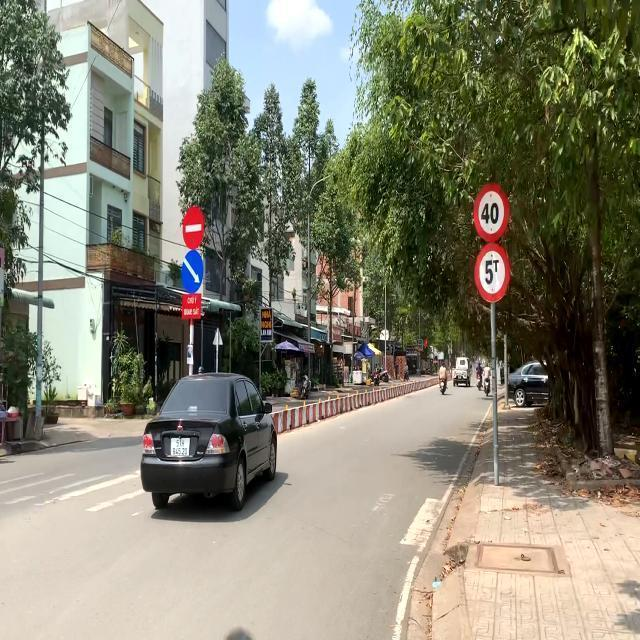102-cam-di-nguoc-chieu: (182, 204, 206, 248)
127-toc-do-toi-da-40: (474, 183, 511, 240)
302a-huong-phai-di-vong-chuong-ngai-vat-1: (180, 250, 204, 294)
